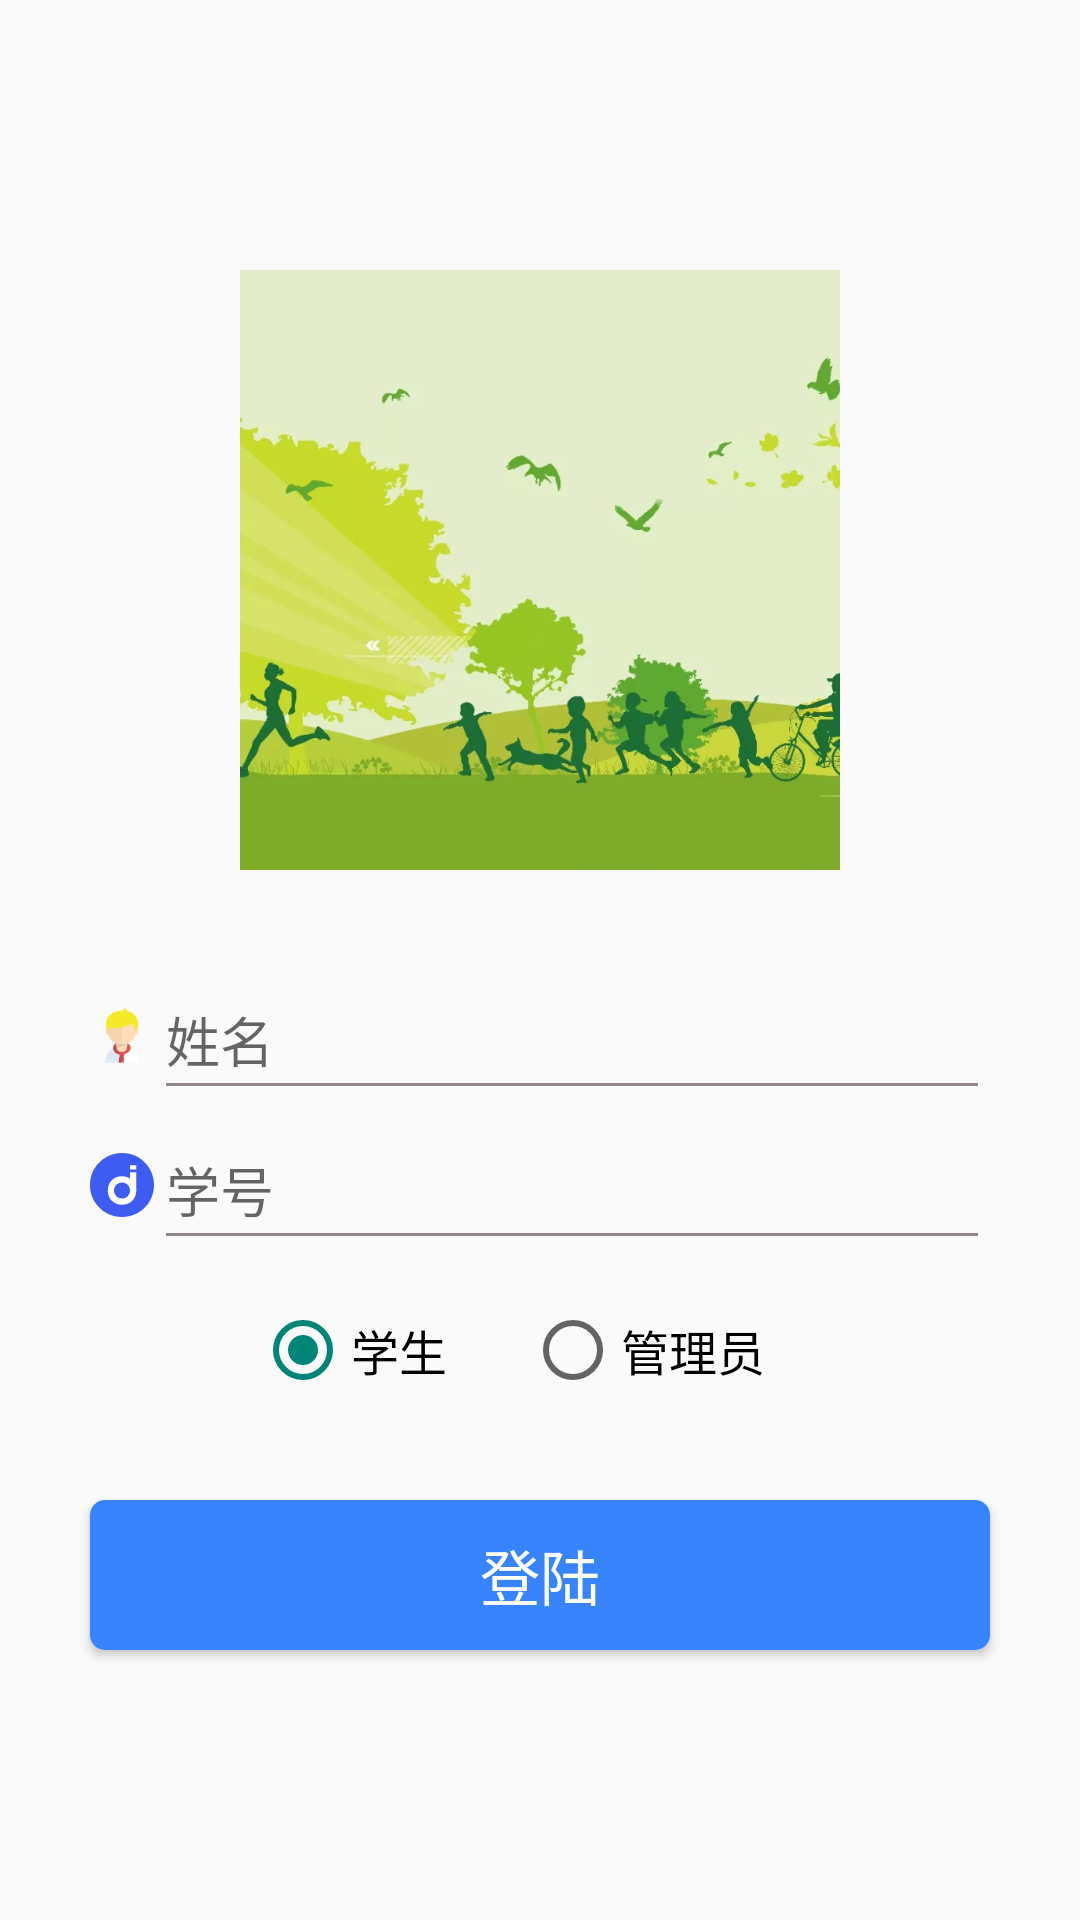

Screen size 1080 x 1920. Icon name, then its center in pixels as point (x, y):
login student: point (122, 1035)
